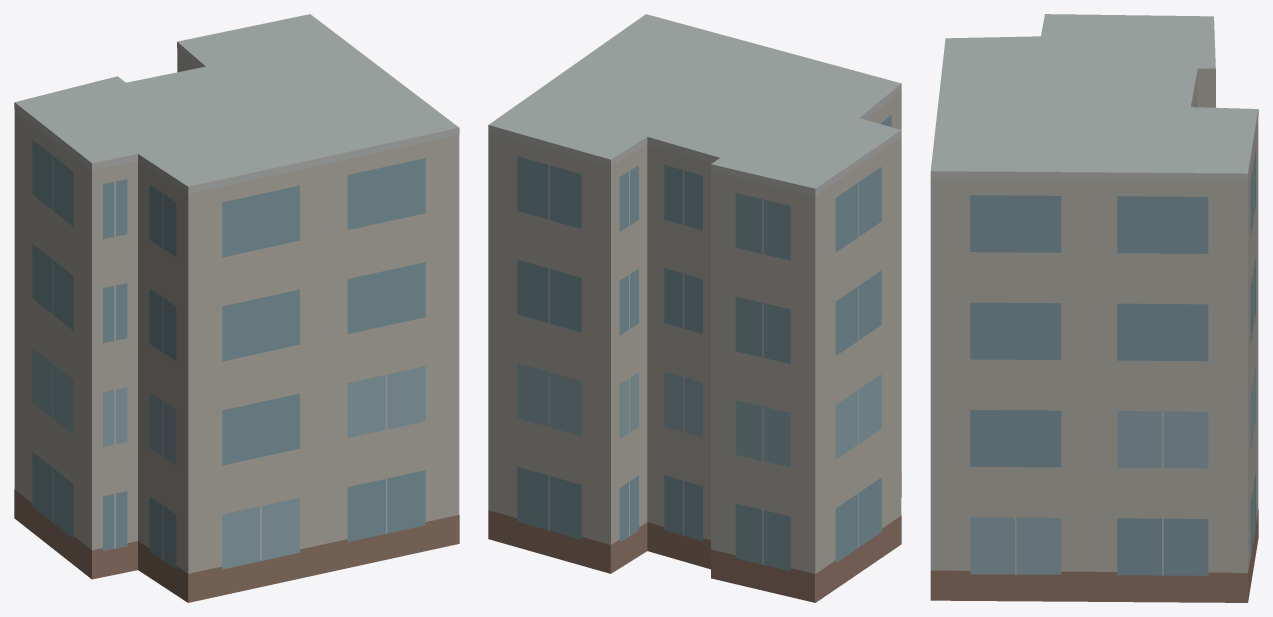
Rendered from survey-upis-32608689.glb.
3 views of the same model, side by side, from view 1: azimuth 30°, elevation 25°; view 2: azimuth 150°, elevation 25°; view 3: azimuth 270°, elevation 25° (orthographic). The views are drawn at different scales.
Parts seen in each view (by area): view 1: survey-upis-32608689.tmp; view 2: survey-upis-32608689.tmp; view 3: survey-upis-32608689.tmp.
Part boxes in pixels (box(x1,y1,x2,y2)): survey-upis-32608689.tmp: box(14, 14, 459, 602); survey-upis-32608689.tmp: box(488, 14, 901, 602); survey-upis-32608689.tmp: box(930, 14, 1258, 602).
Bounding box in the file's own units: 11.32 × 14.2 × 9.83.
